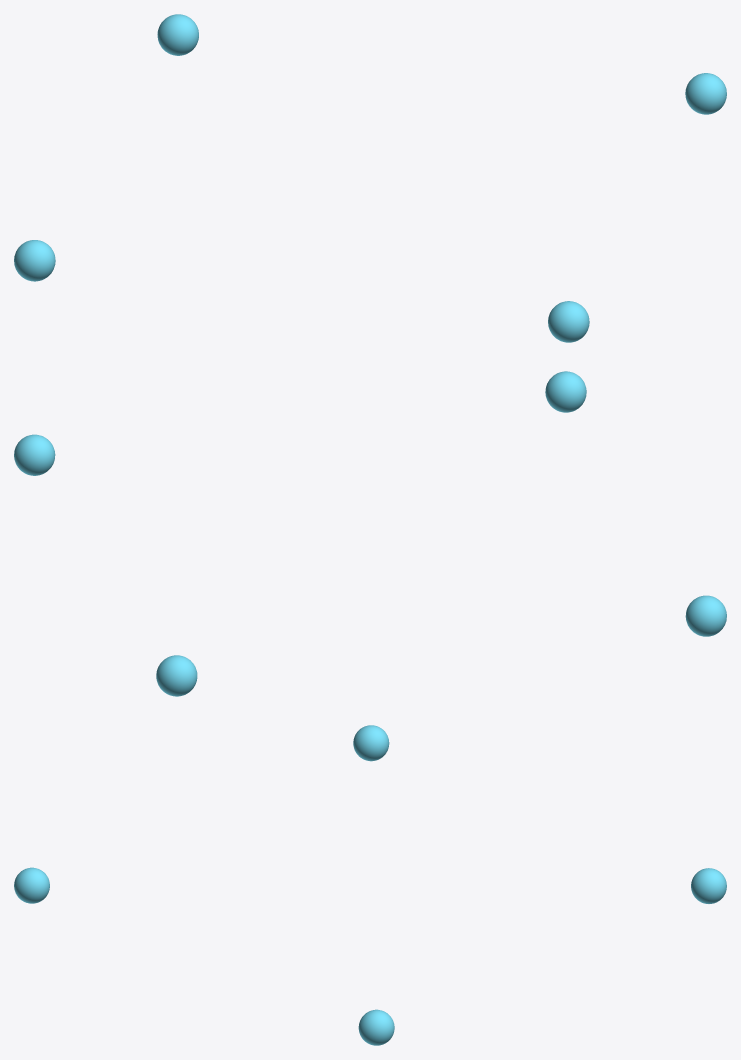
3 views of the same model, one above another, from view 1: azimuth 30°, elevation 25°; view 2: azimuth 150°, elevation 25°; view 3: azimuth 270°, elevation 25° (orthographic). The views are drawn at different scales.
Parts seen in each view (by area): view 1: Sphere049; view 2: Sphere049; view 3: Sphere049.
Boxes of the visible parts, x1,y1,x2,y2 form: Sphere049: [14, 14, 726, 342]; Sphere049: [14, 371, 726, 696]; Sphere049: [14, 725, 726, 1045].
Size of the model in its own units: 162 by 8.22 by 162.
